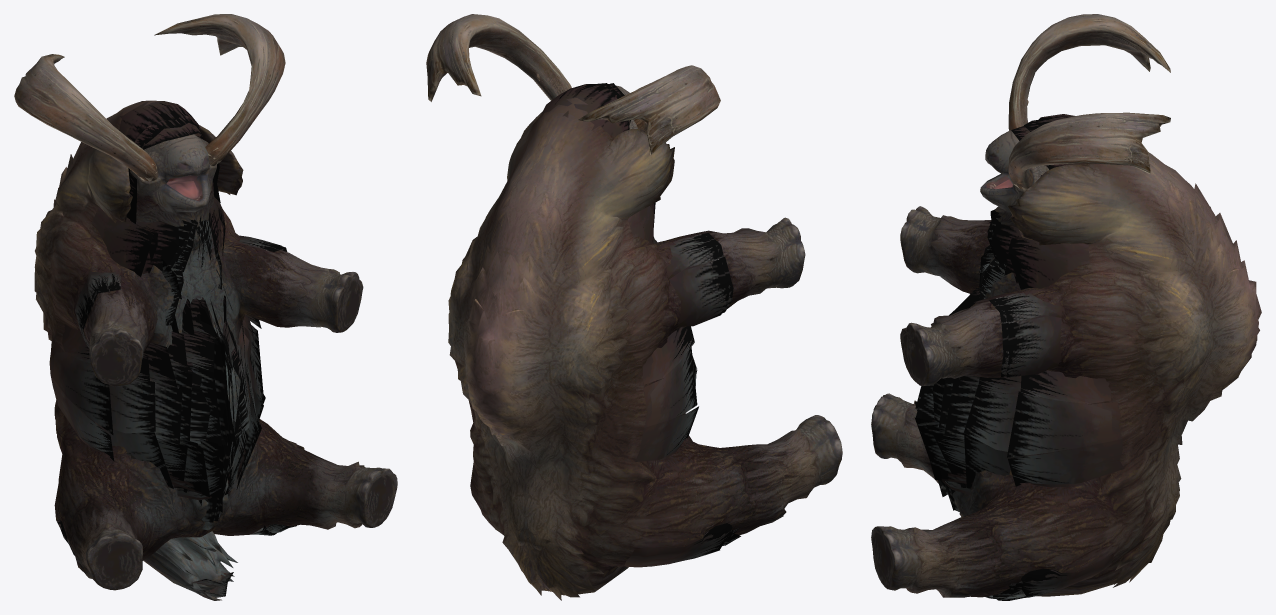
The model's file is ems014_00.obj.
3 renders of one model, left to right at view 1: azimuth 30°, elevation 25°; view 2: azimuth 150°, elevation 25°; view 3: azimuth 270°, elevation 25°, orthographic. The views are drawn at different scales.
Parts seen in each view (by area): view 1: ems014_00_011_LOD_1, ems014_00_012_LOD_1, ems014_00_009_LOD_1, ems014_00_000_LOD_1, ems014_00_008_LOD_1, ems014_00_001_LOD_1; view 2: ems014_00_011_LOD_1, ems014_00_009_LOD_1, ems014_00_012_LOD_1, ems014_00_001_LOD_1, ems014_00_007_LOD_1, ems014_00_008_LOD_1, ems014_00_000_LOD_1; view 3: ems014_00_011_LOD_1, ems014_00_012_LOD_1, ems014_00_009_LOD_1, ems014_00_000_LOD_1, ems014_00_001_LOD_1, ems014_00_007_LOD_1, ems014_00_008_LOD_1.
Part boxes in pixels (box(x1,y1,x2,y2)): ems014_00_011_LOD_1: box(34, 100, 397, 600); ems014_00_012_LOD_1: box(50, 295, 265, 522); ems014_00_009_LOD_1: box(14, 14, 285, 181); ems014_00_000_LOD_1: box(92, 137, 232, 325); ems014_00_008_LOD_1: box(119, 101, 203, 149); ems014_00_001_LOD_1: box(75, 235, 287, 348); ems014_00_011_LOD_1: box(448, 85, 842, 600); ems014_00_009_LOD_1: box(426, 14, 720, 155); ems014_00_012_LOD_1: box(635, 326, 698, 461); ems014_00_001_LOD_1: box(666, 233, 733, 326); ems014_00_007_LOD_1: box(477, 503, 732, 567); ems014_00_008_LOD_1: box(541, 83, 630, 136); ems014_00_000_LOD_1: box(628, 131, 655, 243); ems014_00_011_LOD_1: box(871, 130, 1261, 597); ems014_00_012_LOD_1: box(914, 287, 1124, 511); ems014_00_009_LOD_1: box(1008, 14, 1170, 189); ems014_00_000_LOD_1: box(979, 175, 1089, 300); ems014_00_001_LOD_1: box(989, 222, 1061, 377); ems014_00_007_LOD_1: box(996, 554, 1113, 600); ems014_00_008_LOD_1: box(1011, 114, 1080, 169).
Size of the model in its own units: 387 by 609 by 407.
